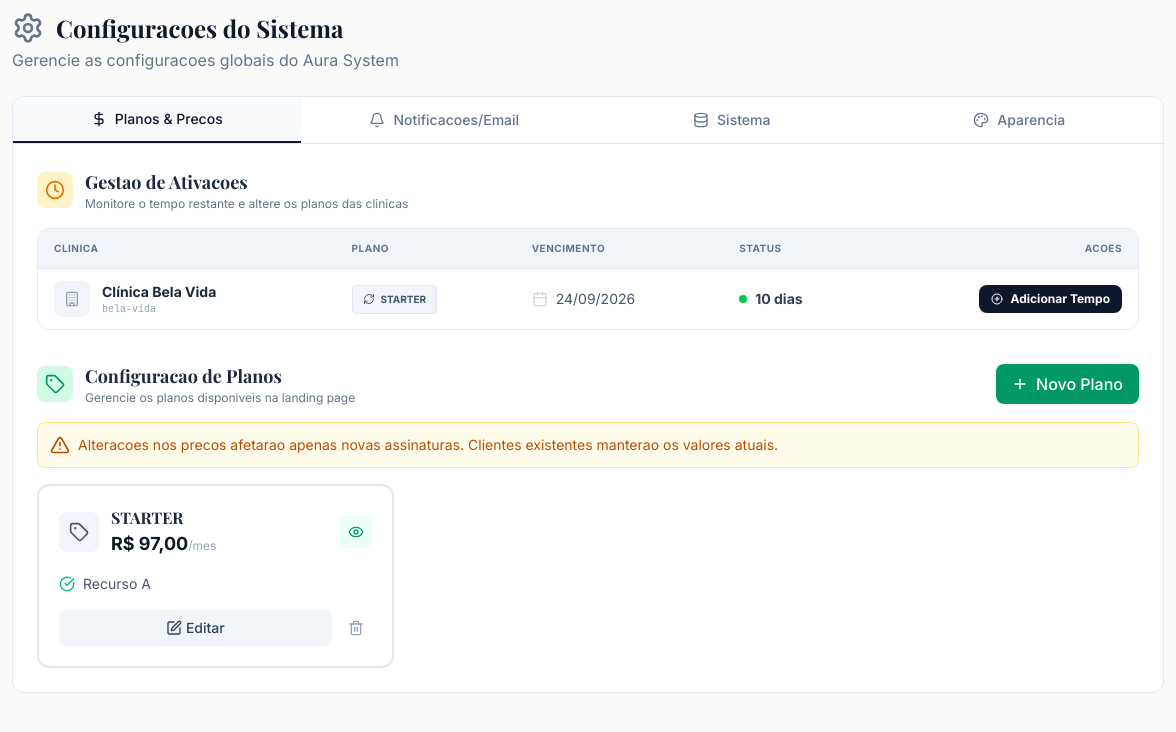
pages/king/KingSettings — navegação por abas › troca para a aba Notificacoes/Email
Step 1. Click the button "Notificacoes/Email" → point(444, 120), box [300,97,588,143]
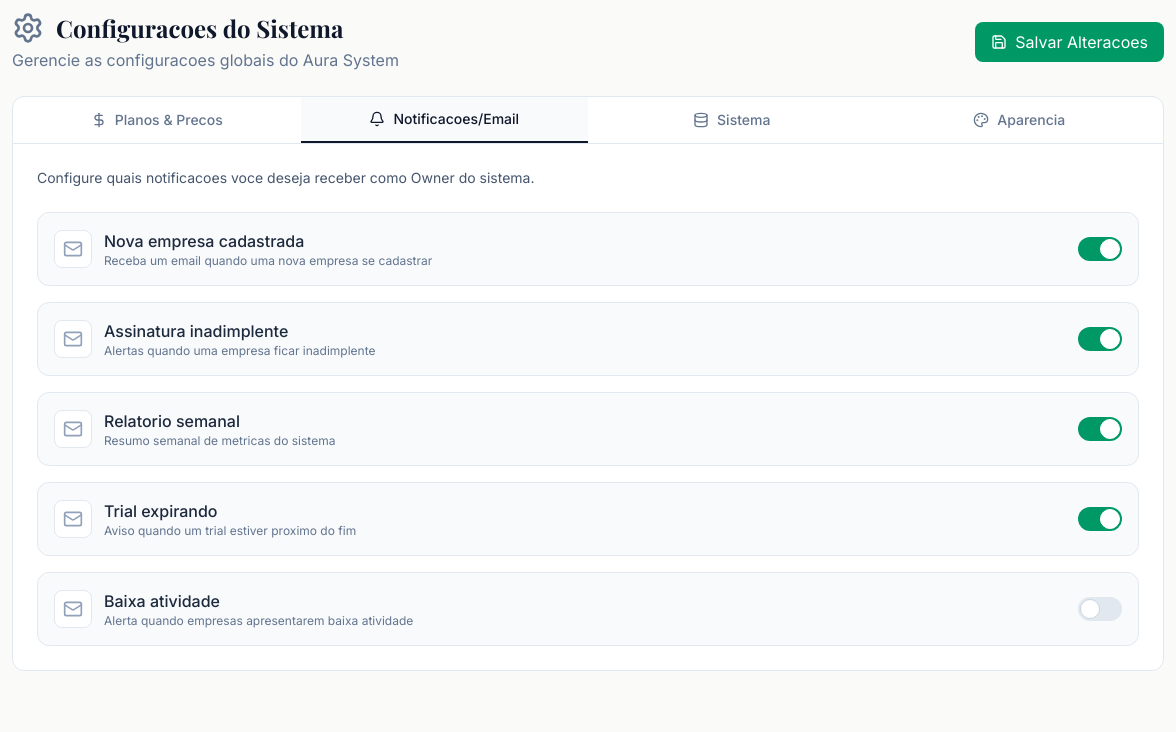
Expected: the text "Configure quais notificacoes" is shown, [37,169,534,186]
